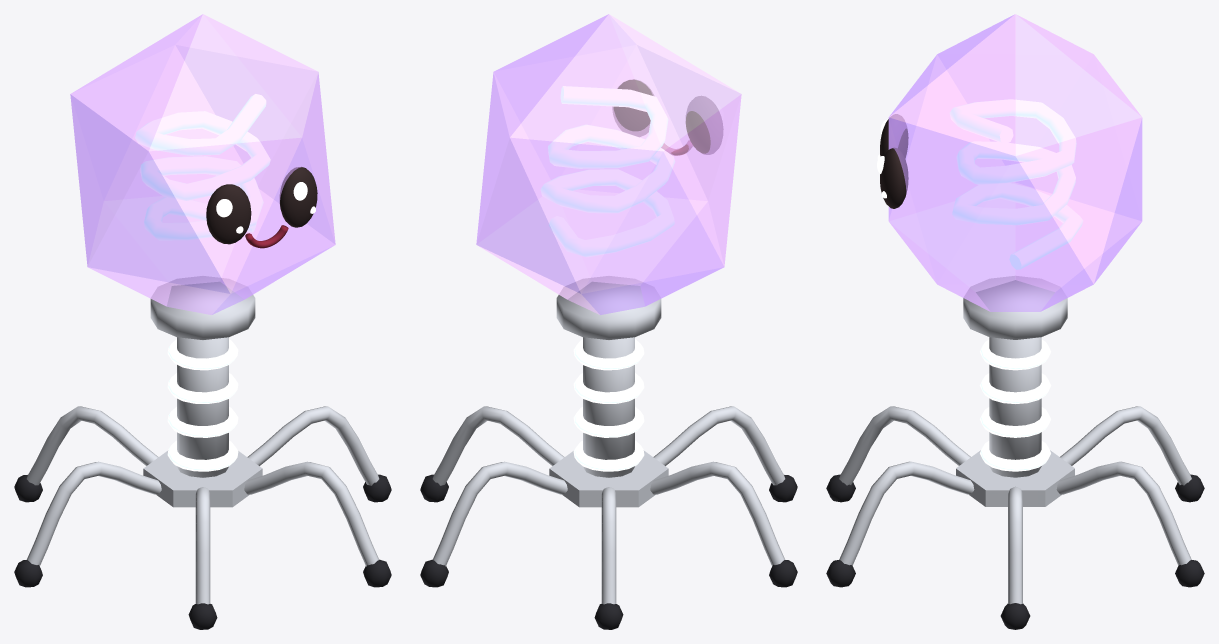
Rendered from P03_Fago_Phage.glb.
3 views of the same model, side by side, from view 1: azimuth 30°, elevation 25°; view 2: azimuth 150°, elevation 25°; view 3: azimuth 270°, elevation 25° (orthographic).
Parts seen in each view (by area): view 1: P03_Fago_Phage_Mesh, P03_Eye_L, P03_Eye_R; view 2: P03_Fago_Phage_Mesh, P03_Eye_L, P03_Eye_R; view 3: P03_Fago_Phage_Mesh, P03_Eye_R, P03_Eye_L.
Boxes of the visible parts, box(x1,y1,x2,y2) form: P03_Fago_Phage_Mesh: box(14, 14, 391, 629); P03_Eye_L: box(206, 184, 251, 244); P03_Eye_R: box(279, 167, 317, 227); P03_Fago_Phage_Mesh: box(420, 14, 797, 629); P03_Eye_L: box(685, 96, 722, 154); P03_Eye_R: box(613, 79, 653, 136); P03_Fago_Phage_Mesh: box(826, 14, 1204, 629); P03_Eye_R: box(880, 147, 908, 208); P03_Eye_L: box(880, 114, 908, 158).
Size of the model in its own units: 0.58 by 0.785 by 0.5077.
